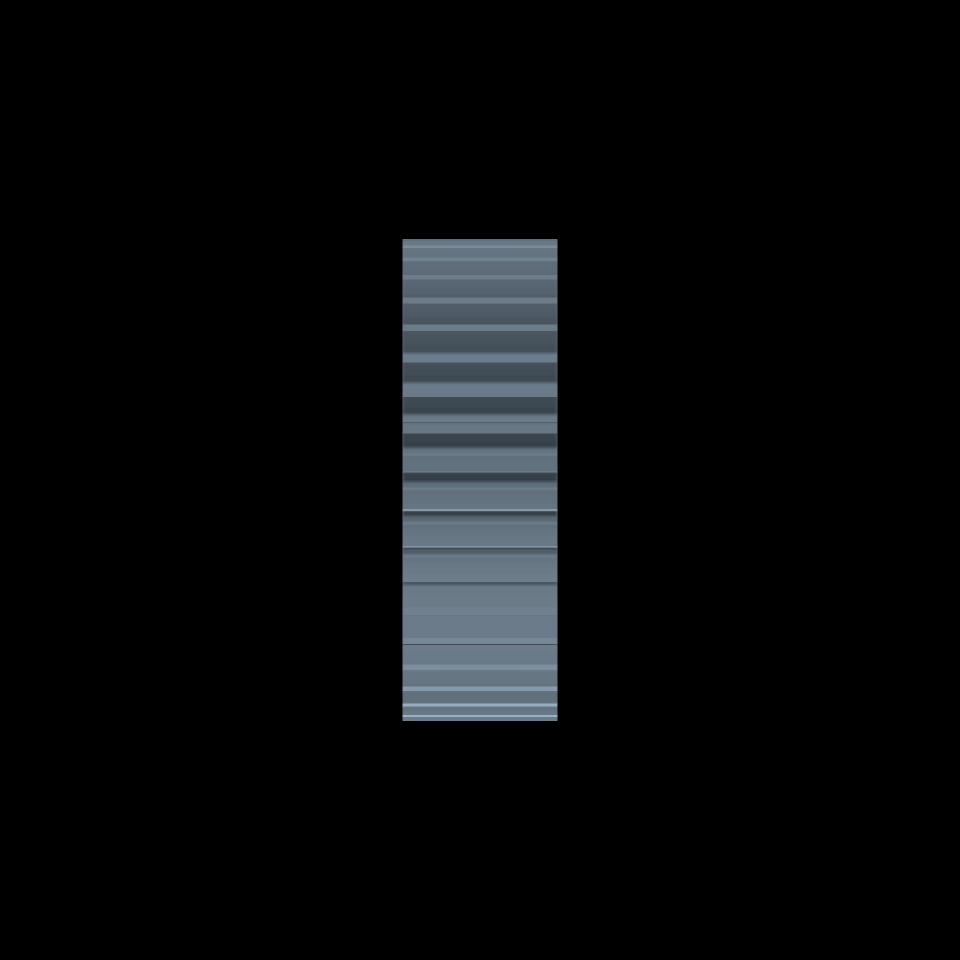Straight: (402, 240, 557, 719)
